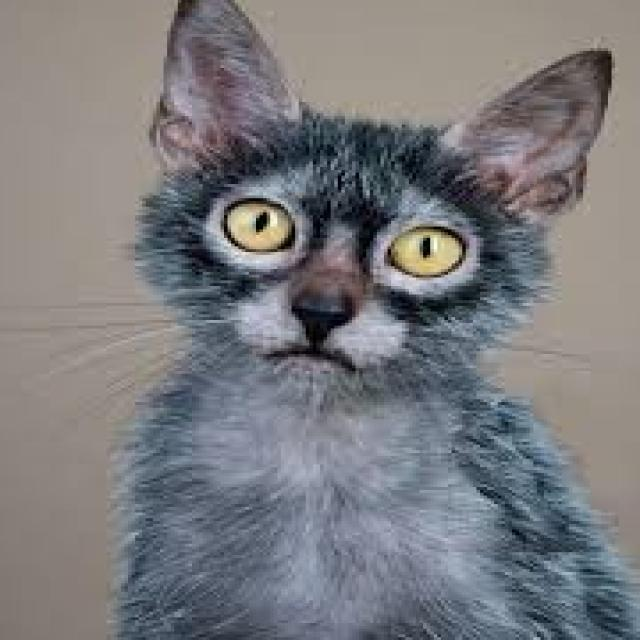Lykoi: (106, 0, 640, 640)
